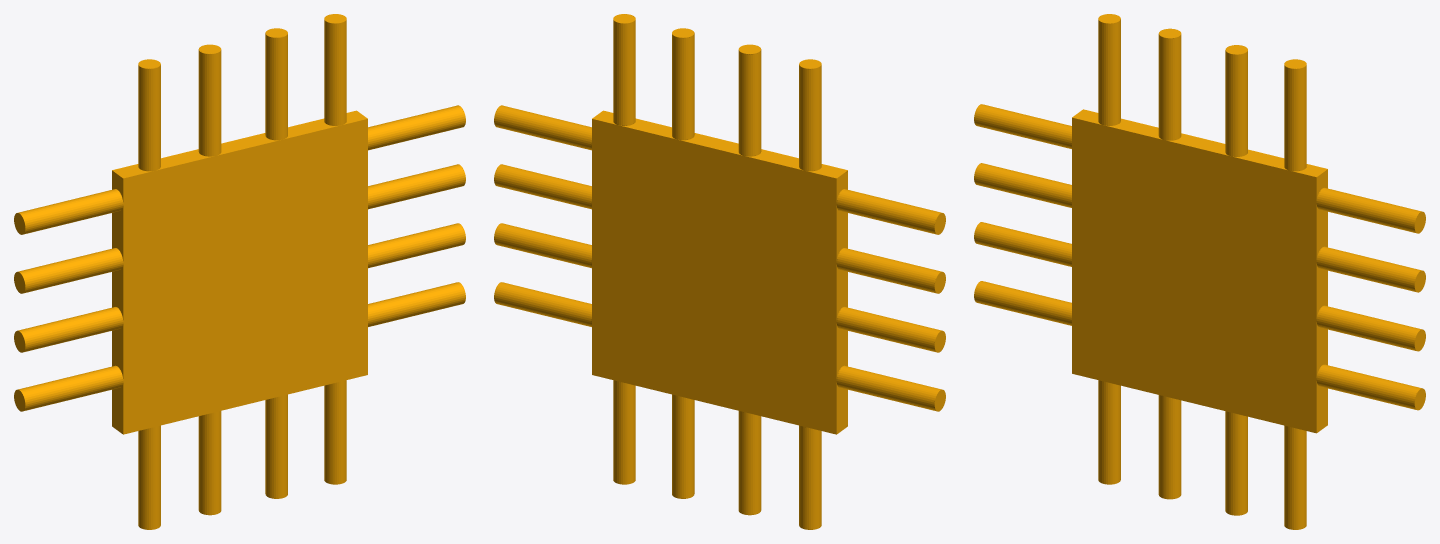
File: chip1.fbx
3 renders of one model, left to right at view 1: azimuth 30°, elevation 25°; view 2: azimuth 150°, elevation 25°; view 3: azimuth 330°, elevation 25°, orthographic.
Visible parts, largest first — view 1: chipModel; view 2: chipModel; view 3: chipModel.
Part boxes in pixels (x1=…): chipModel: x1=14, y1=14, x2=465, y2=529; chipModel: x1=494, y1=14, x2=945, y2=529; chipModel: x1=974, y1=14, x2=1425, y2=529.
Size of the model in its own units: 9000 by 9000 by 400.
